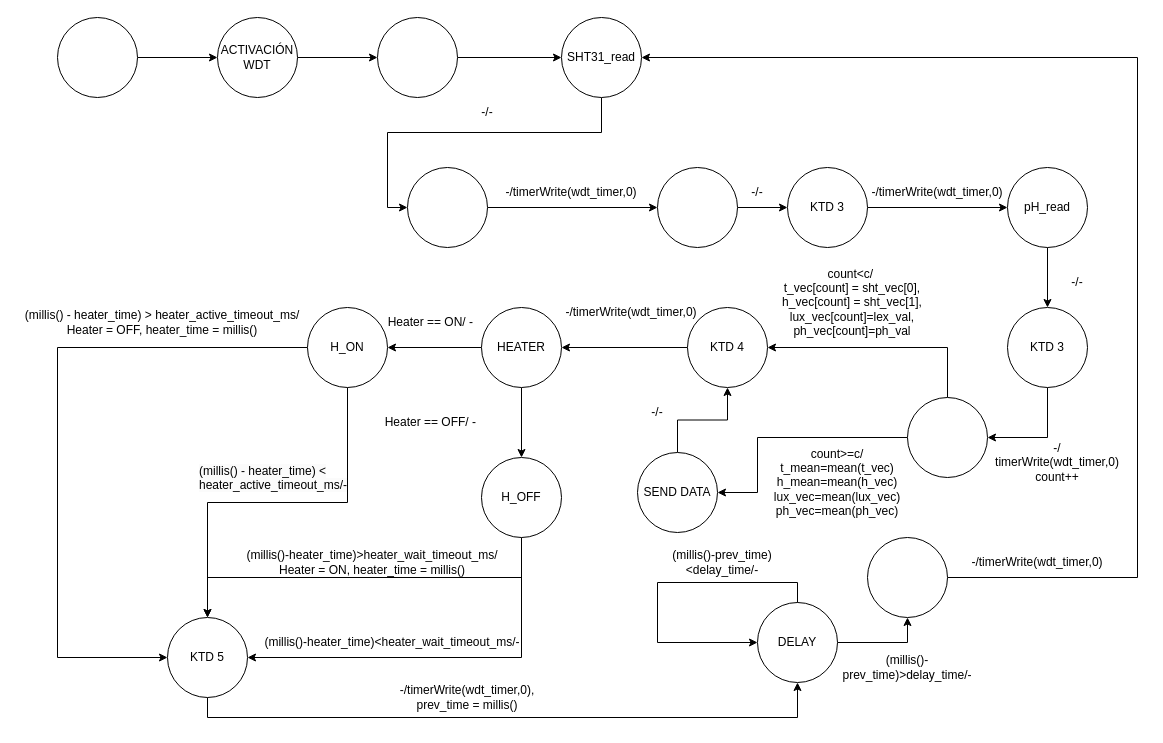
Image size: 1163x743. Some labels were removed from this diagram. Here are the shapes that lost their labels. From the top down, the centre of each, then its label:
At point 97,57: "INICIO".
At point 417,57: "ACTIVACIÓN HEATER TIMER".
At point 447,207: "KTD 2".
At point 697,207: "LUX_read".
At point 947,437: "MEAN".
At point 907,577: "KTD 6".
